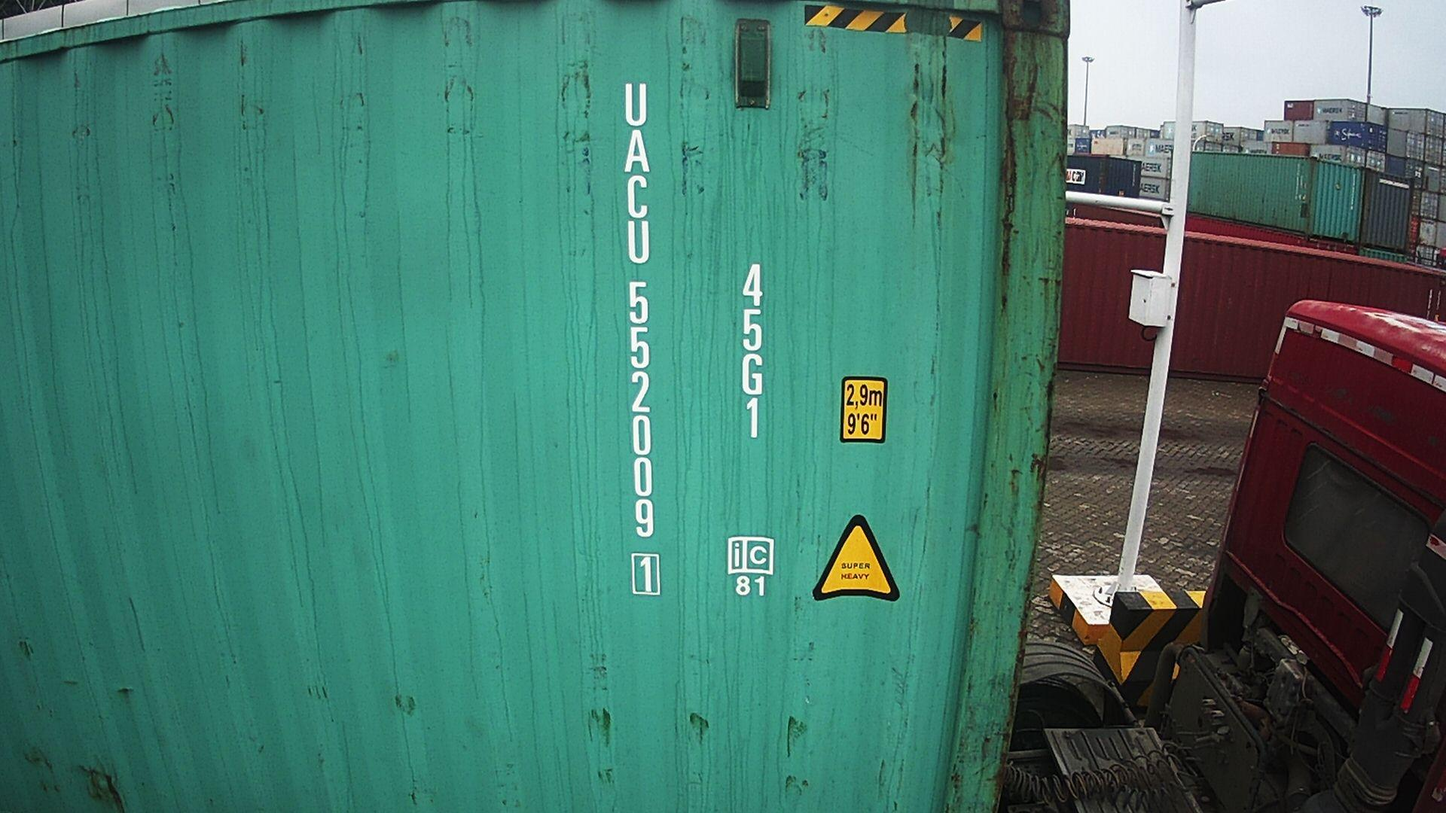container-numbers: (614, 73, 666, 599), (732, 259, 773, 444)
